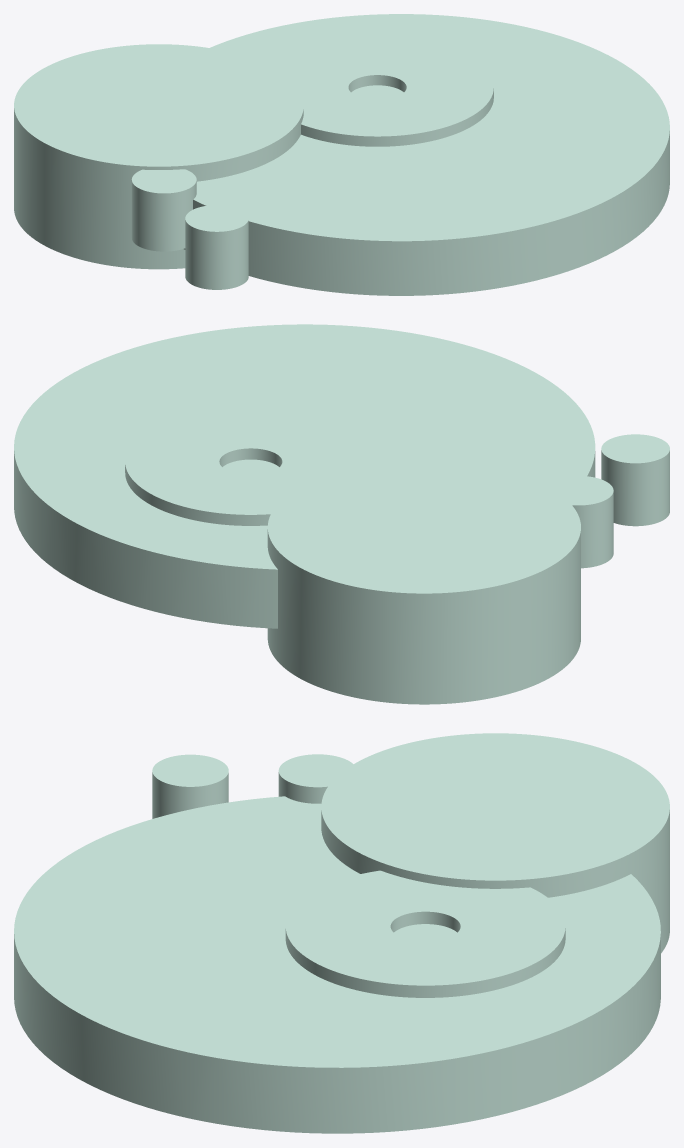
The picture shows the model from 3 angles, top to bottom: view 1: azimuth 30°, elevation 25°; view 2: azimuth 150°, elevation 25°; view 3: azimuth 270°, elevation 25°; orthographic projection. The views are drawn at different scales.
Visible parts, largest first — view 1: Renderer Node; view 2: Renderer Node; view 3: Renderer Node.
Boxes of the visible parts, left/top/right/bottom form: Renderer Node: left=14, top=14, right=669, bottom=295; Renderer Node: left=14, top=324, right=669, bottom=704; Renderer Node: left=14, top=733, right=669, bottom=1133.
Size of the model in its own units: 1.28 by 0.2344 by 1.13.
